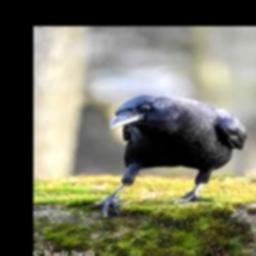Crow: (87, 95, 248, 217)
